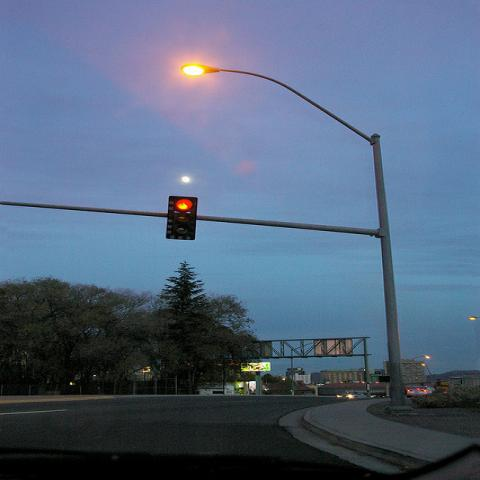car: (407, 386, 436, 398), (336, 391, 366, 400), (431, 386, 450, 393)
